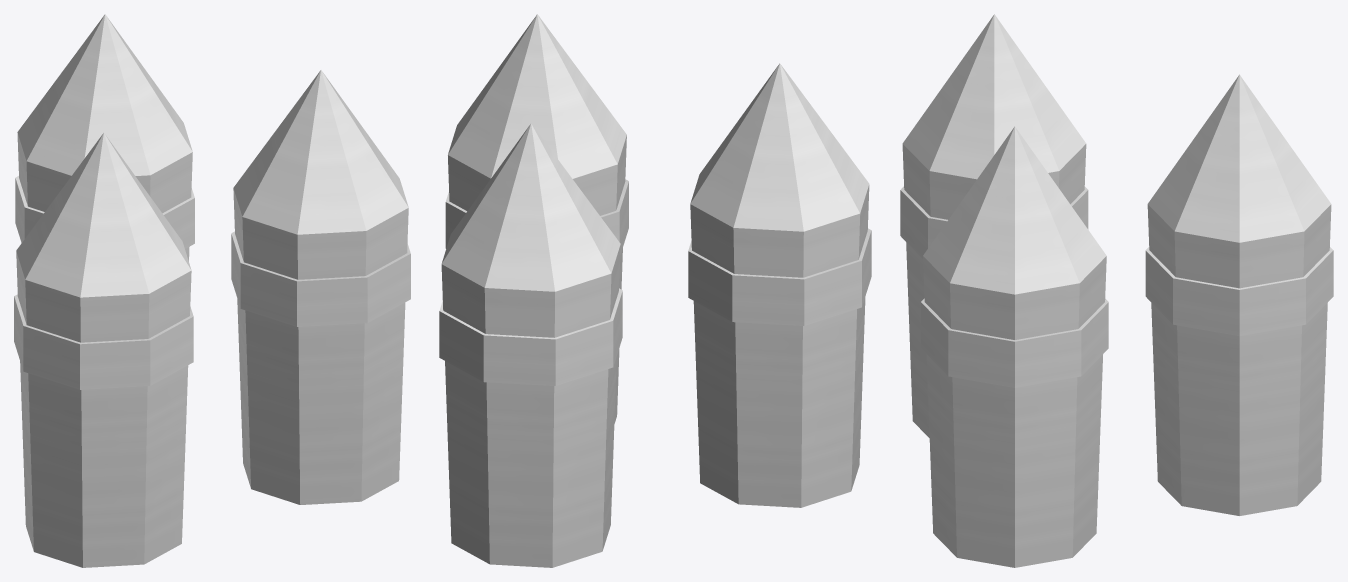
File: shells_he.obj
3 renders of one model, left to right at view 1: azimuth 30°, elevation 25°; view 2: azimuth 150°, elevation 25°; view 3: azimuth 270°, elevation 25°, orthographic. The views are drawn at different scales.
Visible parts, largest first — view 1: shells_he; view 2: shells_he; view 3: shells_he.
Part boxes in pixels (box(x1,y1,x2,y2)): shells_he: box(14, 14, 410, 567); shells_he: box(439, 14, 871, 567); shells_he: box(900, 14, 1333, 567).
Bounding box in the file's own units: 0.444 × 0.44 × 0.424.
